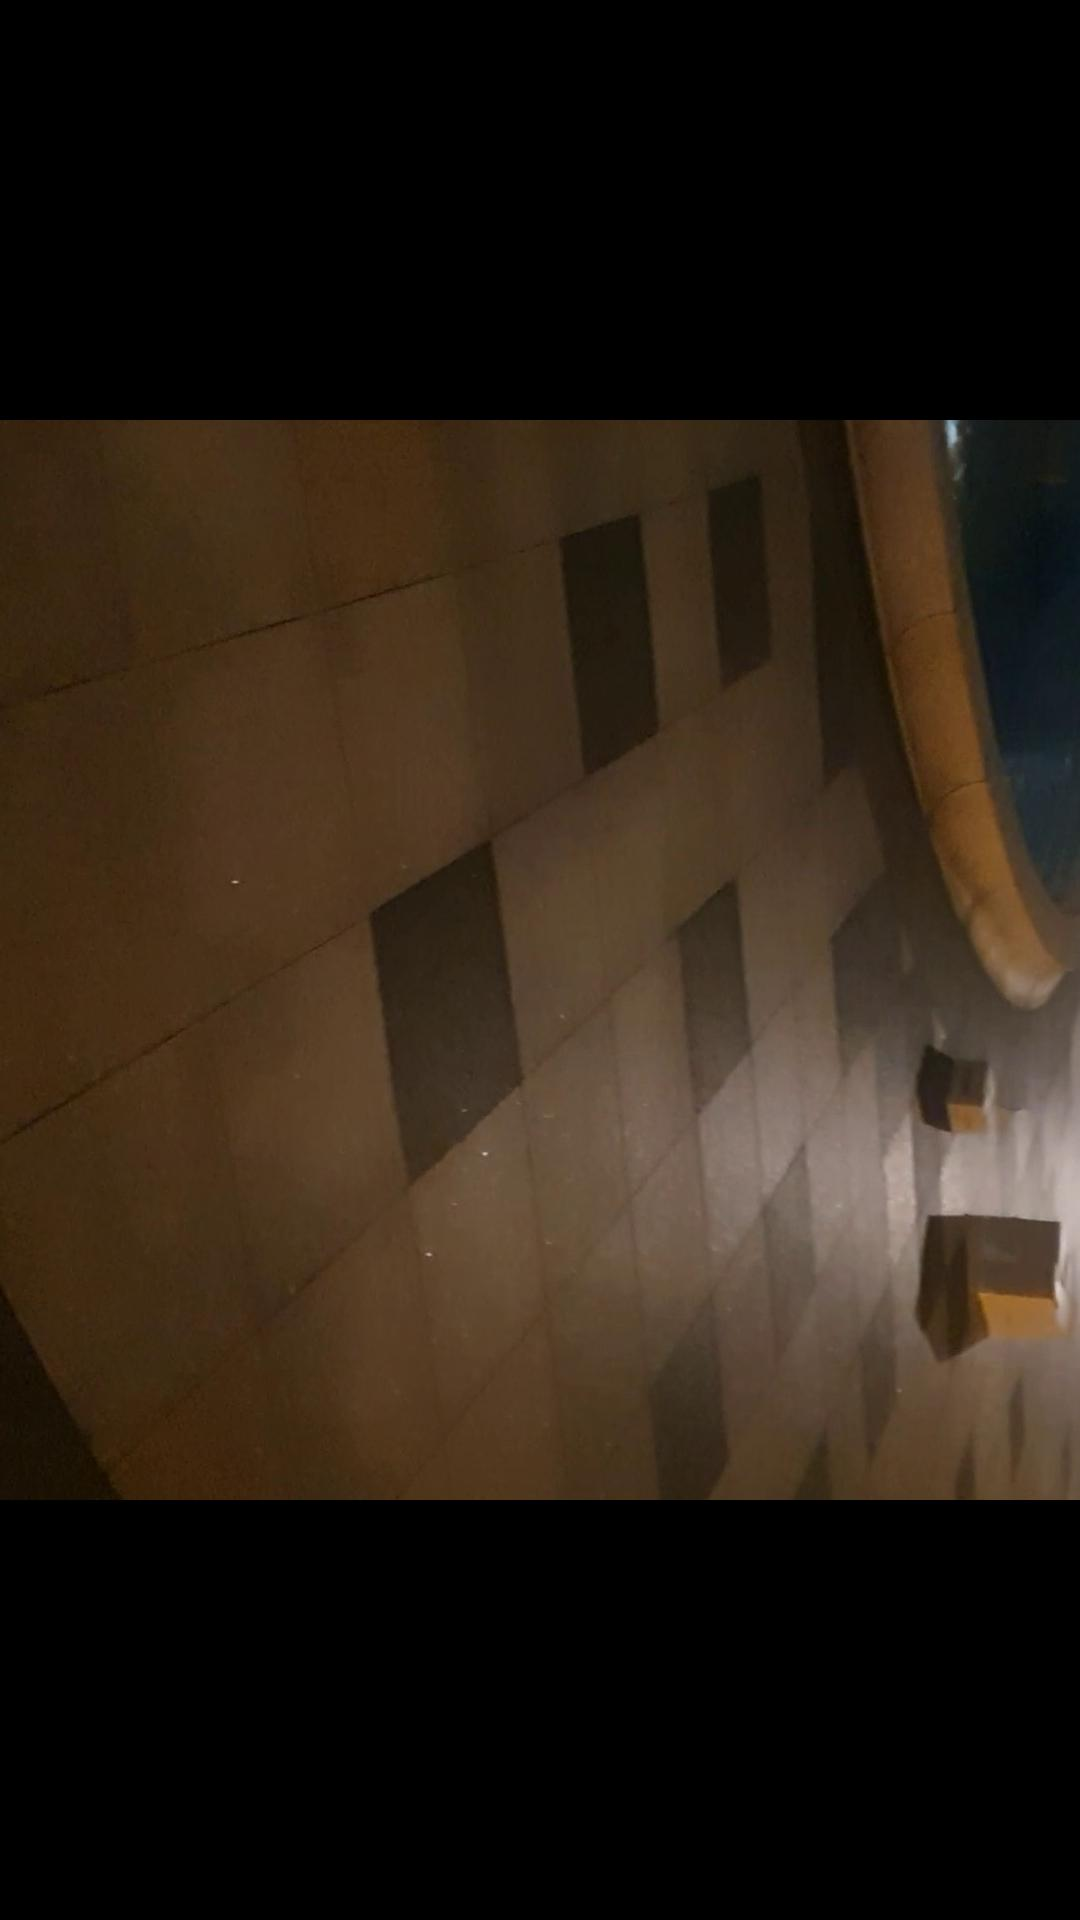Box: (935, 1207, 1075, 1360), (924, 1054, 1010, 1139)
